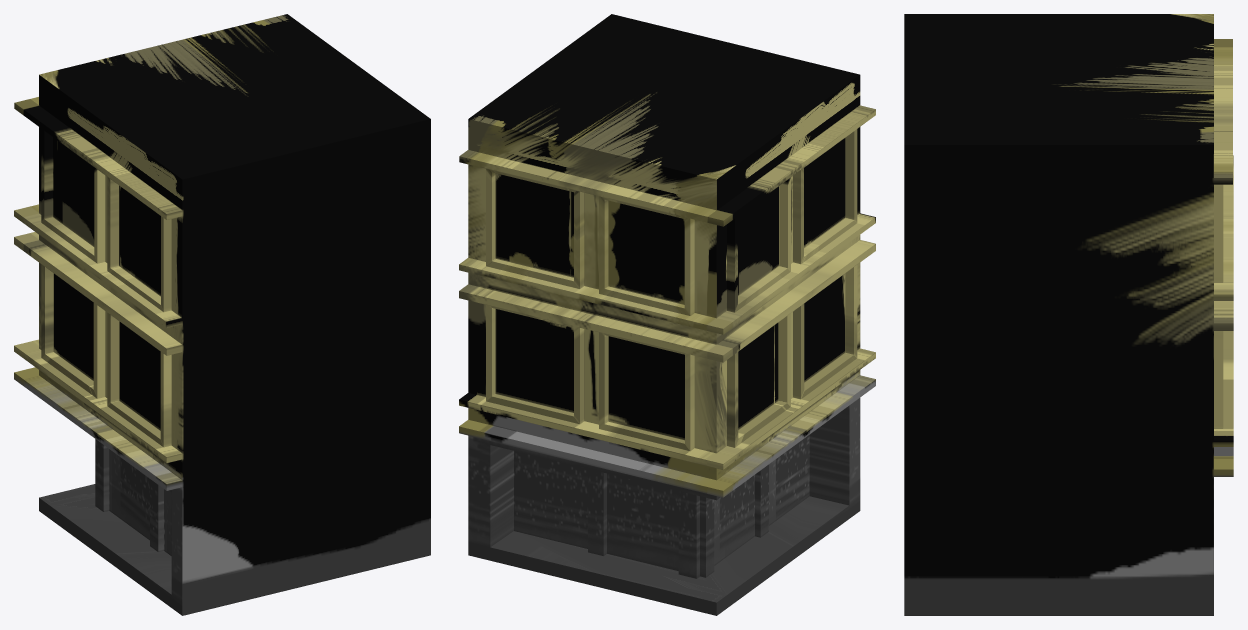
File: corner 2.glb
3 renders of one model, left to right at view 1: azimuth 30°, elevation 25°; view 2: azimuth 150°, elevation 25°; view 3: azimuth 270°, elevation 25°, orthographic. The views are drawn at different scales.
Visible parts, largest first — view 1: bangunan perempatan2; view 2: bangunan perempatan2; view 3: bangunan perempatan2.
Boxes of the visible parts, box(x1,y1,x2,y2) form: bangunan perempatan2: box(14, 14, 430, 615); bangunan perempatan2: box(459, 14, 875, 615); bangunan perempatan2: box(904, 14, 1233, 615).
Size of the model in its own units: 8.16 by 12.88 by 8.17.
1 material, 1 textured.
